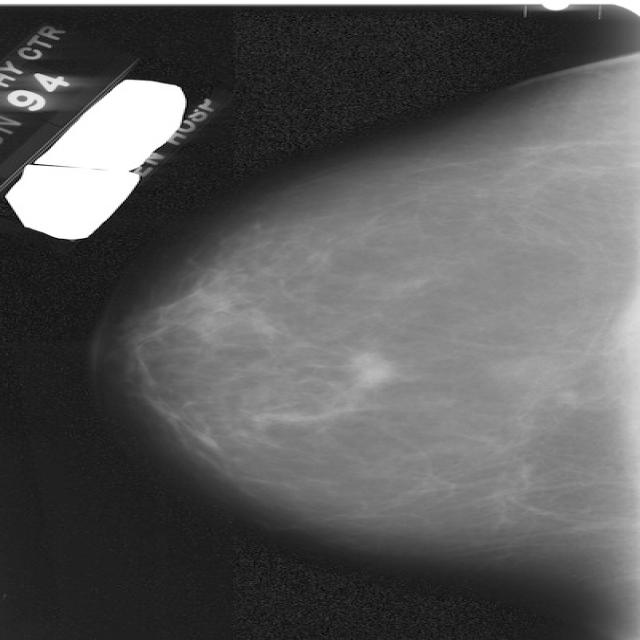tumour: (346, 349, 394, 384)
